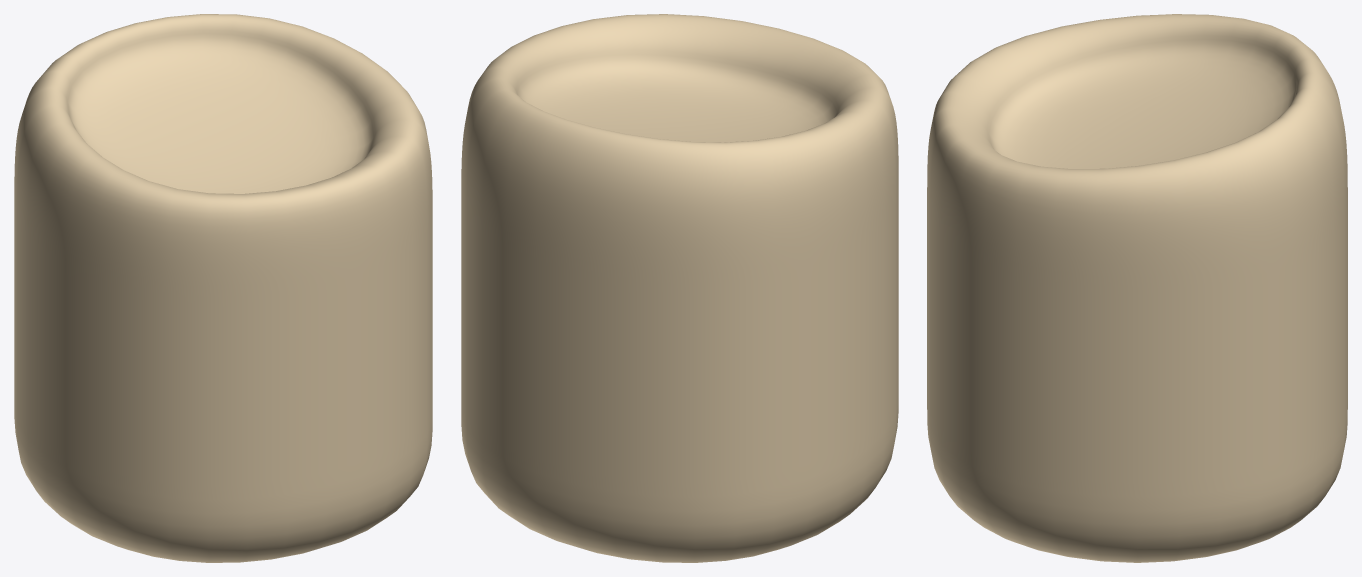
The model's file is Marshmallow burned.fbx.
3 views of the same model, side by side, from view 1: azimuth 30°, elevation 25°; view 2: azimuth 150°, elevation 25°; view 3: azimuth 270°, elevation 25° (orthographic). The views are drawn at different scales.
Parts seen in each view (by area): view 1: Cube.005; view 2: Cube.005; view 3: Cube.005.
Part boxes in pixels (bbox=[...]): Cube.005: bbox=[14, 14, 432, 562]; Cube.005: bbox=[461, 14, 898, 562]; Cube.005: bbox=[927, 14, 1347, 562].
Size of the model in its own units: 1.83 by 1.83 by 2.12.
